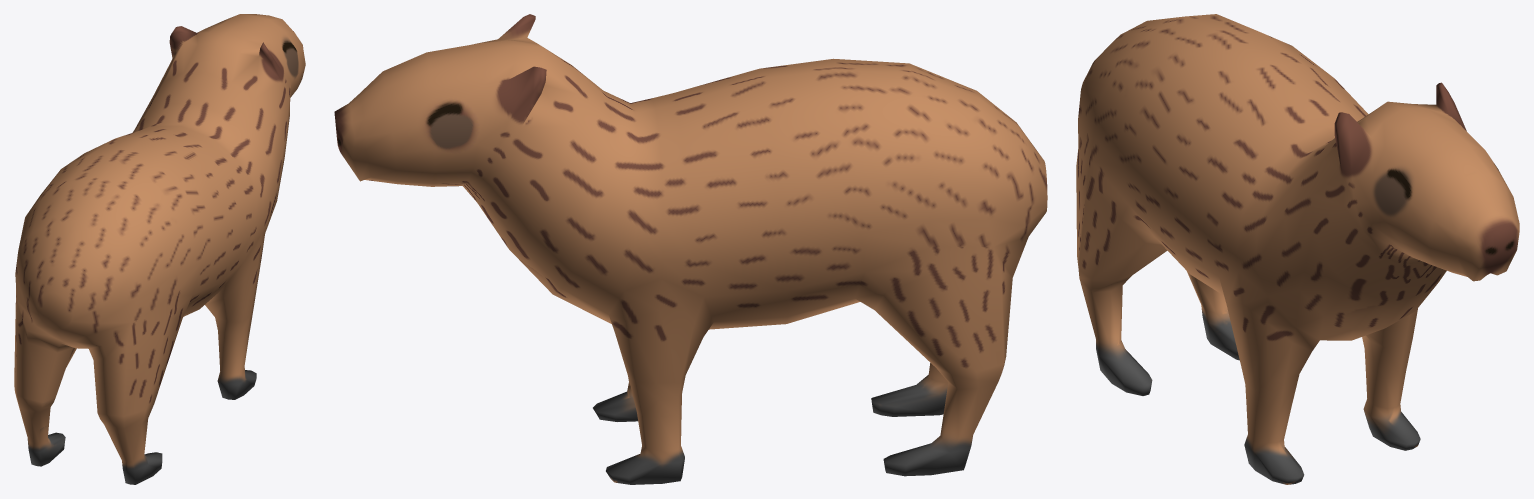
File: Capivara.fbx
3 views of the same model, side by side, from view 1: azimuth 30°, elevation 25°; view 2: azimuth 150°, elevation 25°; view 3: azimuth 270°, elevation 25° (orthographic). The views are drawn at different scales.
Visible parts, largest first — view 1: Capivara; view 2: Capivara; view 3: Capivara.
Boxes of the visible parts, x1=… form: Capivara: x1=14, y1=14, x2=305, y2=484; Capivara: x1=334, y1=14, x2=1047, y2=484; Capivara: x1=1076, y1=14, x2=1519, y2=484.
Bounding box in the file's own units: 79.19 × 59.32 × 60.25.
